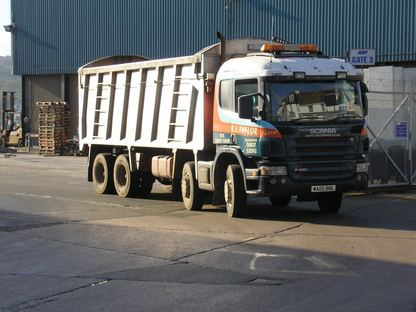truck: (70, 38, 372, 219)
